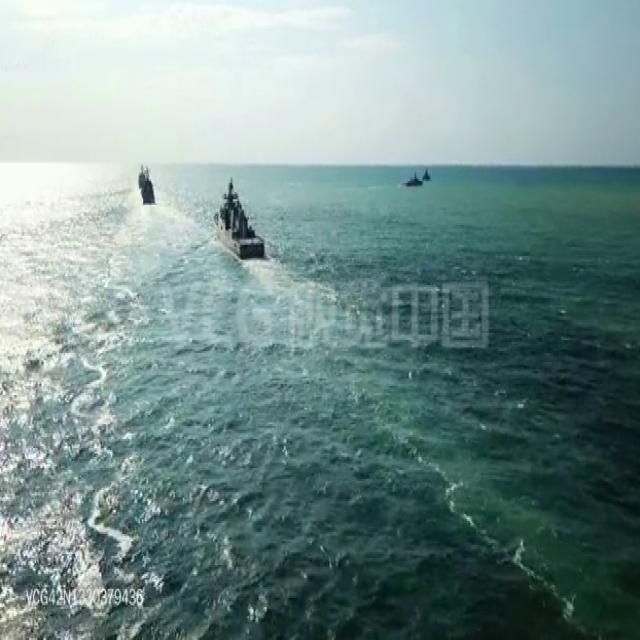navalvessels: (214, 177, 266, 257), (140, 170, 156, 209), (404, 168, 424, 187), (136, 162, 146, 190), (422, 166, 431, 186)
